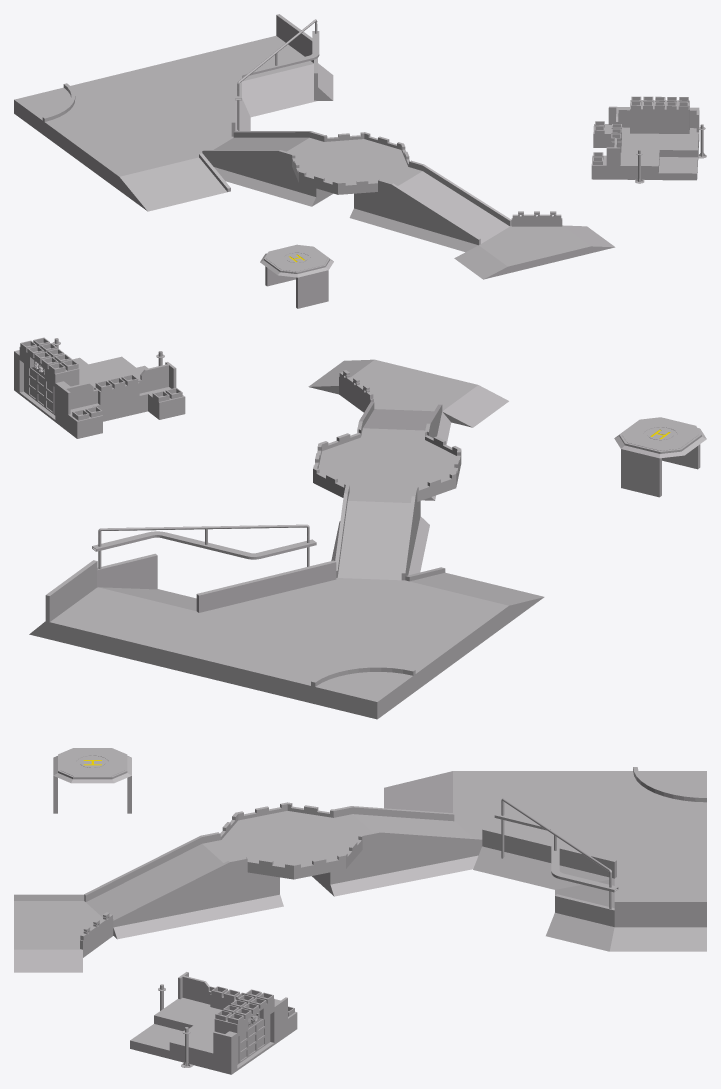
File: map4.obj
The picture shows the model from 3 angles, top to bottom: view 1: azimuth 30°, elevation 25°; view 2: azimuth 150°, elevation 25°; view 3: azimuth 270°, elevation 25°; orthographic projection. The views are drawn at different scales.
Visible parts, largest first — view 1: ballast; view 2: ballast; view 3: ballast.
Boxes of the visible parts, bbox=[...] form: ballast: bbox=[14, 14, 706, 308]; ballast: bbox=[14, 337, 706, 719]; ballast: bbox=[14, 748, 706, 1074].
Size of the model in its own units: 147 by 17.2 by 150.
Materials: 1 (1 with a texture image).
